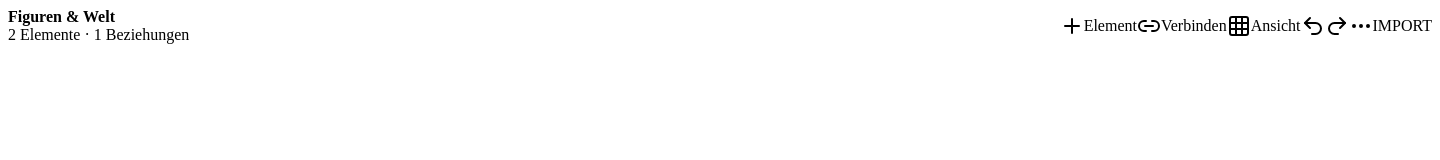
FigureToolbar menus › uses the shared dropdown focus path for the manage/import menu
Press ArrowUp in the button named "Verwalten", box [1348,14,1372,38]
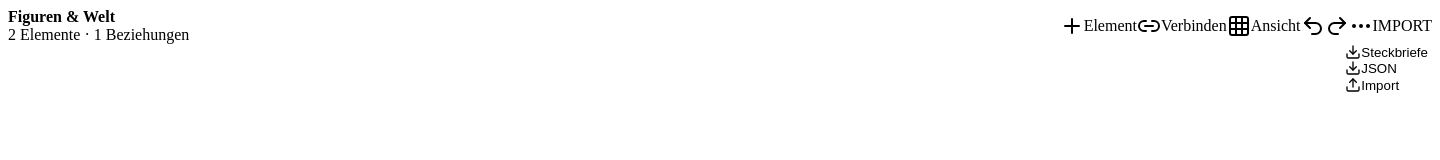
Now the 1st icon with class "ui-menu__icon" is shown, box [1345,44,1361,60]
Now the text "Steckbriefe" is shown, box [1361,44,1428,60]
Now the 2nd icon with class "ui-menu__icon" is shown, box [1345,60,1361,76]
Click the menu item "Import": click(1387, 85) [1345,77,1428,93]
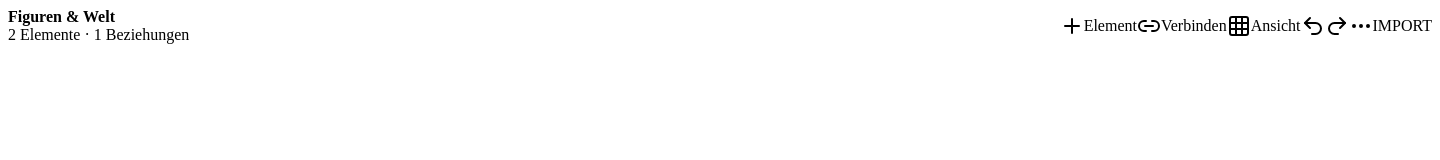
Now the menu is gone
